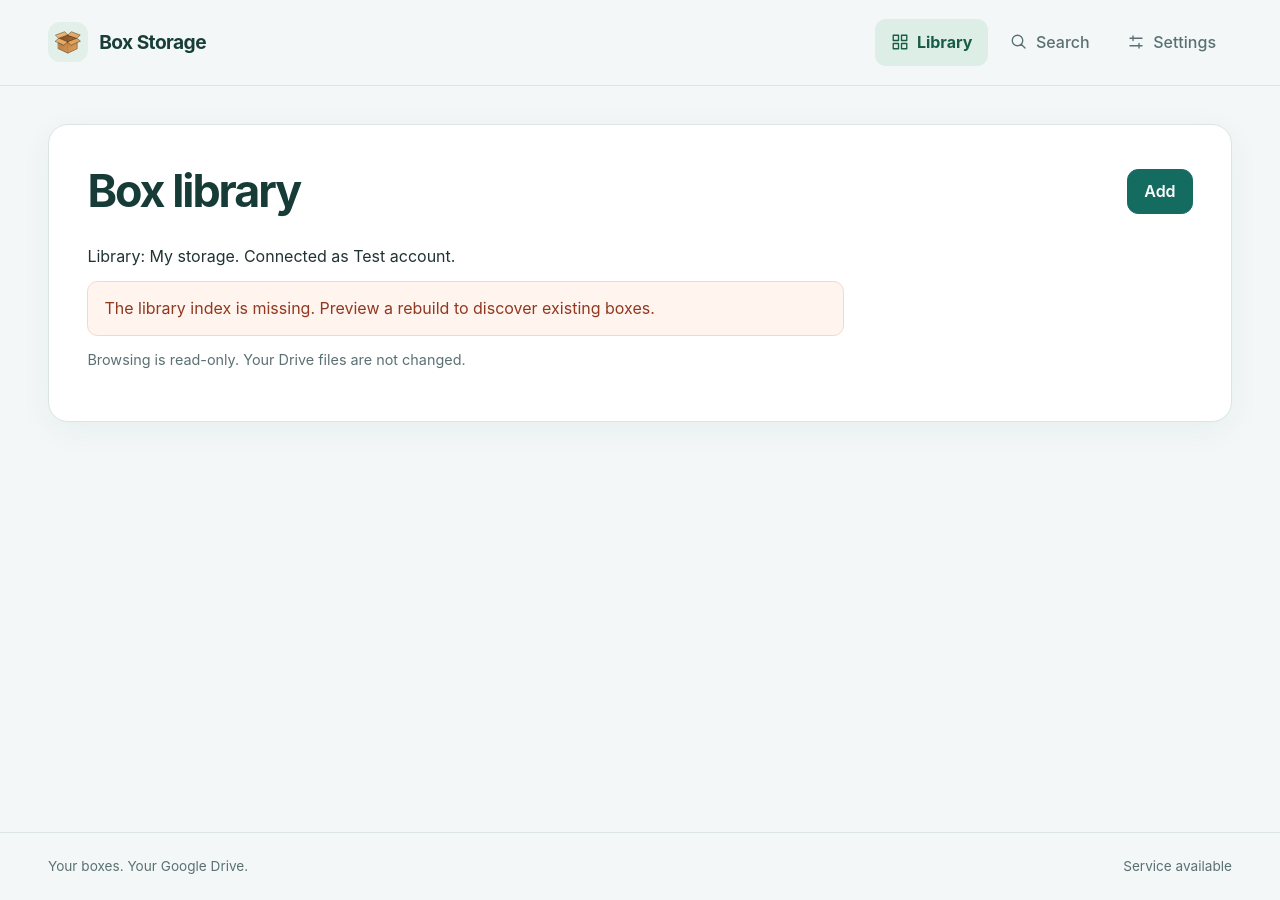
Test: inventory screens › offers recovery without initialization when an index is missing in a populated library
The width and height of the screenshot is (1280, 900).
Expected: the text "The library index is missing. Preview a rebuild to discover existing boxes." is shown, top-left (87, 281), bottom-right (844, 336)
Expected: the element "Tools" is not shown
Click the link "Settings": (1172, 42) top-left (1127, 32), bottom-right (1216, 52)
(page scrolled)
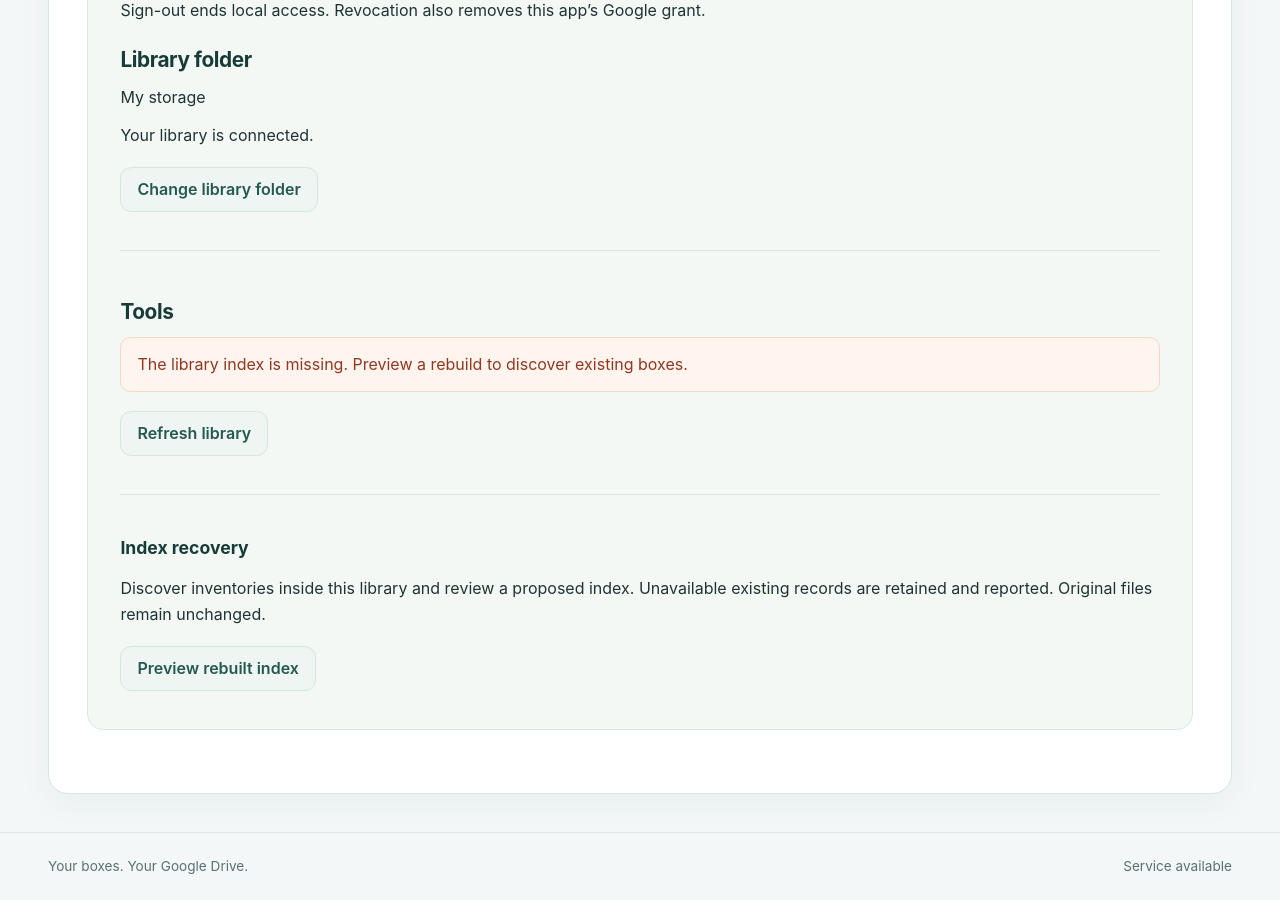
Now the button "Preview rebuilt index" is enabled, box top-left (120, 646), bottom-right (316, 691)
